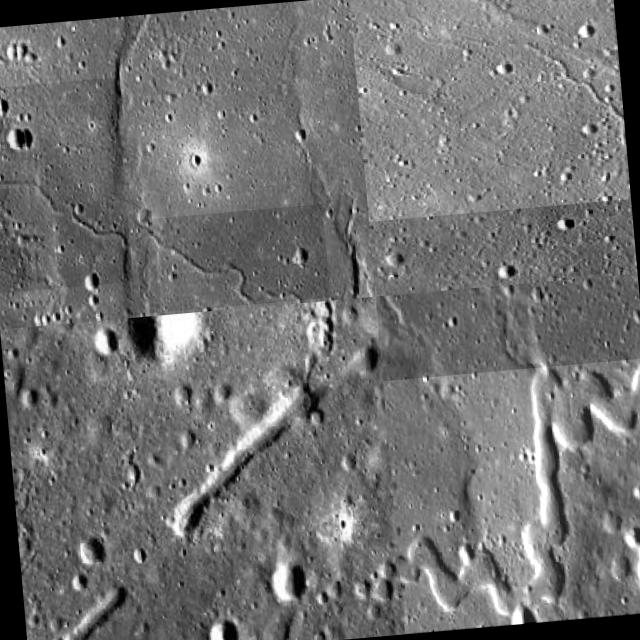rille: (382, 358, 640, 633), (348, 0, 628, 221), (0, 77, 132, 293), (524, 33, 635, 278), (134, 204, 330, 314), (537, 0, 625, 171)
